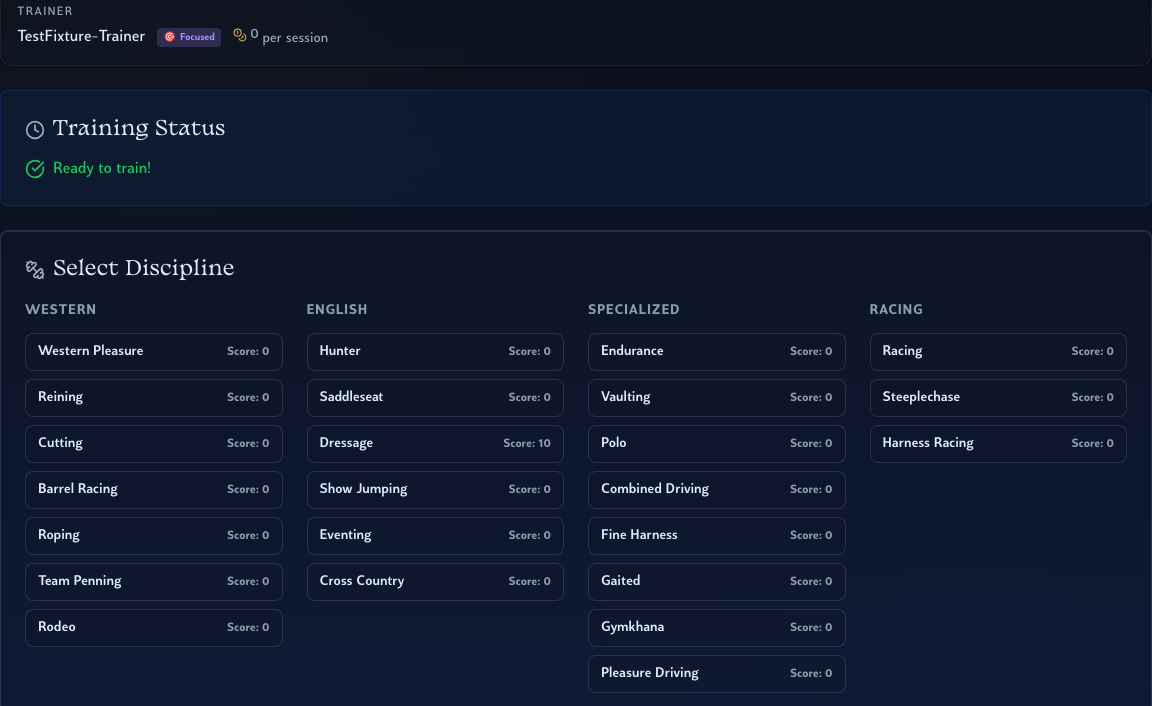
Test: TrainingTab — failed training (Equoria-mr1kq) › shows mapped copy for a server fault
Click the button with aria-label "select dressage discipline" at [435, 444], box [306,425,564,463]
(page scrolled)
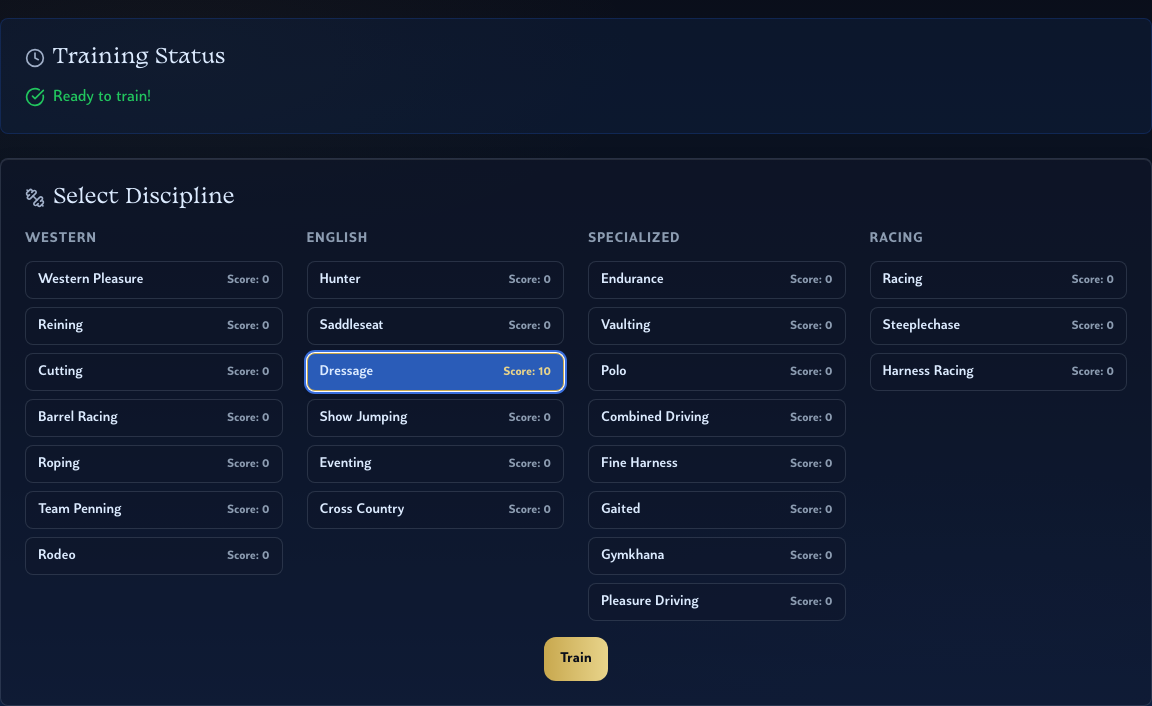
Click the button with test id "train-button" at [576, 659], box [544,637,608,681]
(page scrolled)
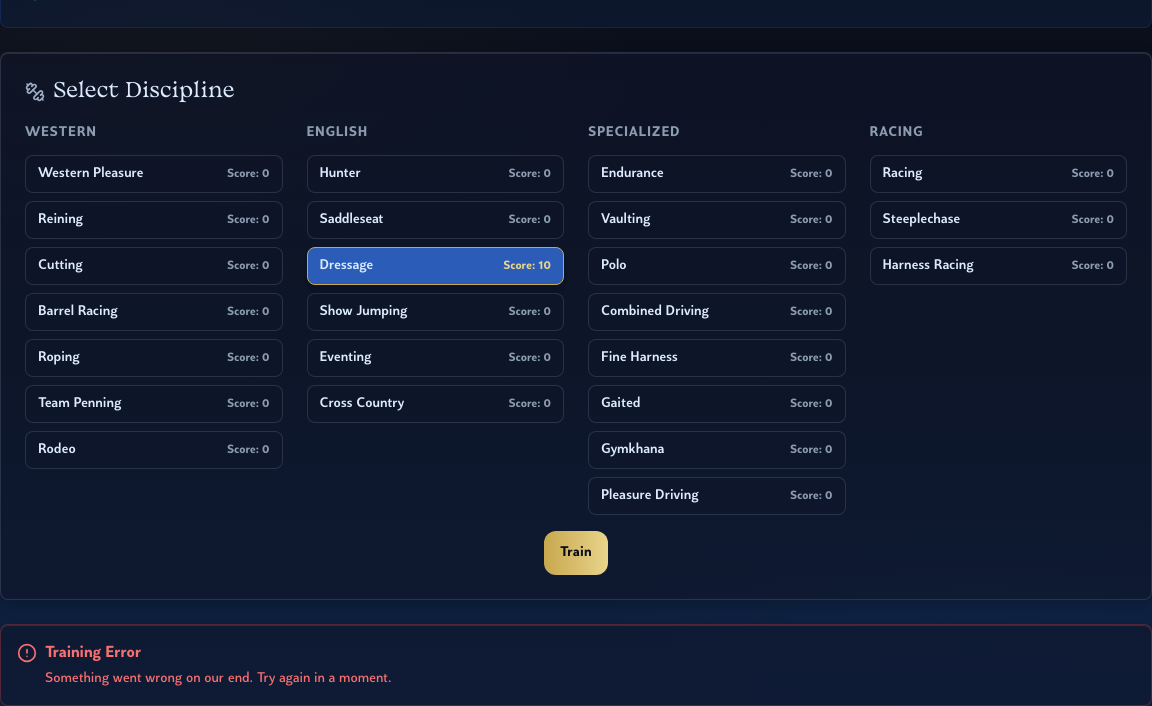
Now the text "Something went wrong on our end. Try again in a moment." is shown, box [45,669,391,689]
